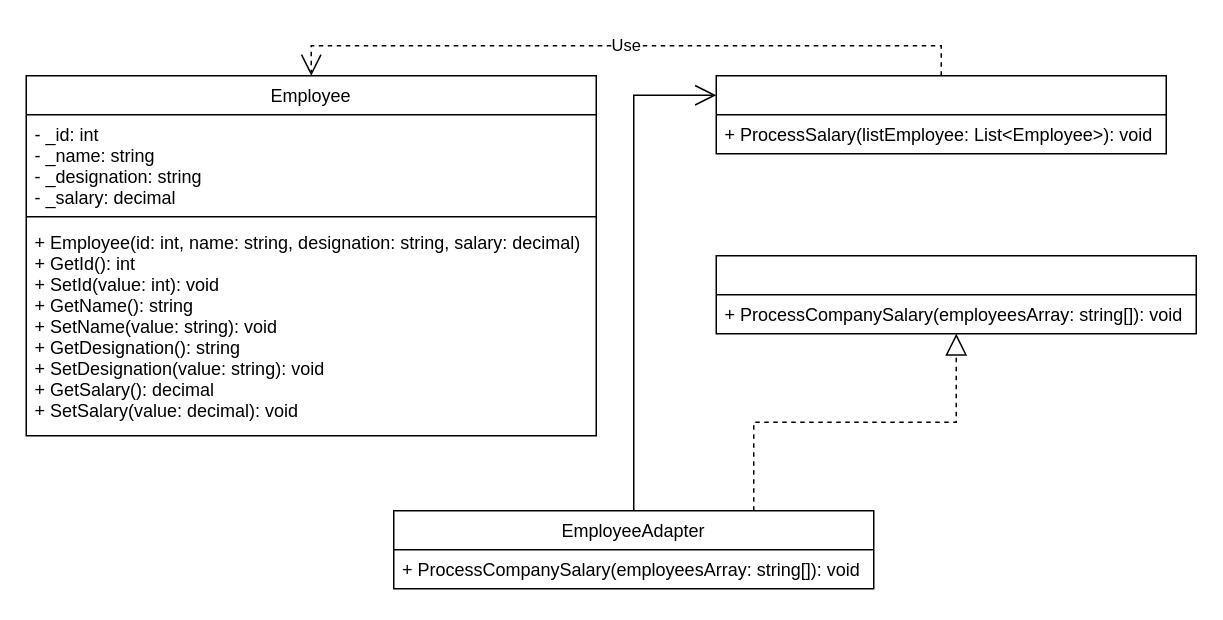
Image size: 1223x620. Some labels were removed from this diagram. Here are the shapes that lost their labels. From the top down, the box of each, then its label:
(715, 74, 1166, 154): ThirdPartyBillingSystem
(715, 254, 1196, 334): «interface» ITarget
